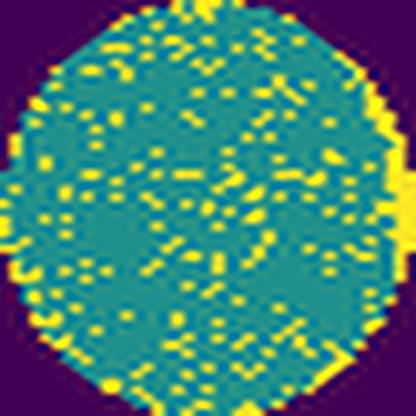Edge-Loc: (338, 46, 416, 281)
